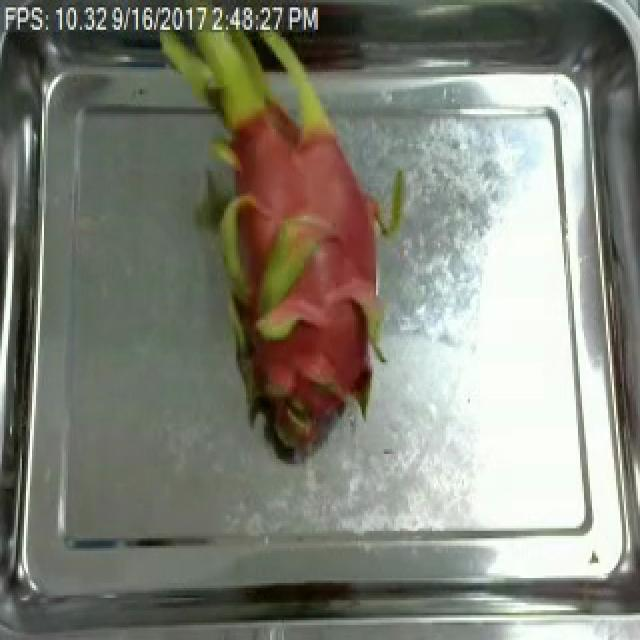fruit: (140, 12, 416, 456)
